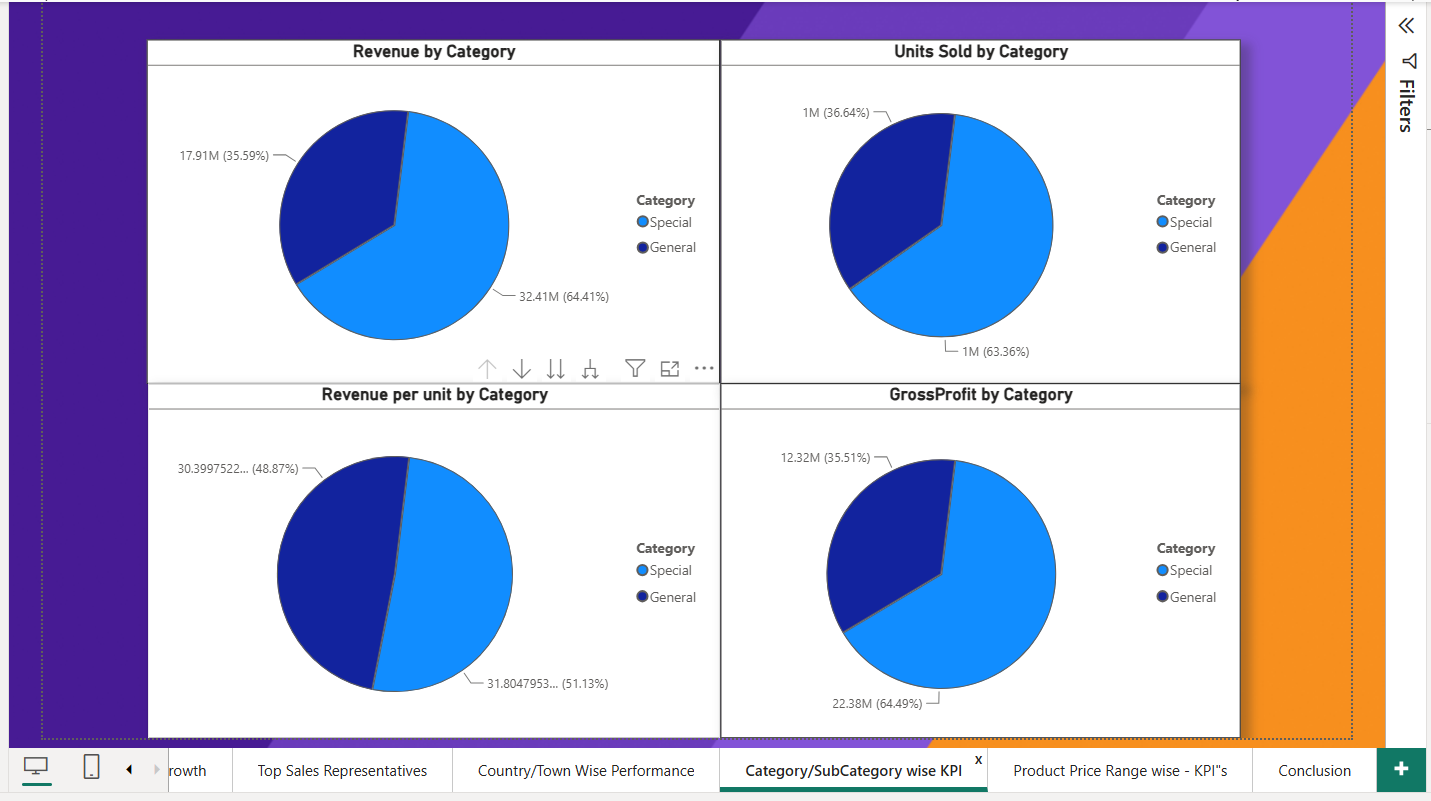

The dashboard page shown, as its layout file describes it:
{"tool":"powerbi","page":{"name":"Category/SubCategory wise KPI ","canvas":[1280,720],"ordinal":6},"visuals":[{"type":"pieChart","title":"Revenue by Category","fields":{"Category":["DimCategory.Category","DimSubCategory.SubCategory Name"],"Y":["FactSales.TotalRevenue"]},"box":[102,36.1,561.1,337.2],"z":0},{"type":"pieChart","fields":{"Category":["DimCategory.Category","DimSubCategory.SubCategory Name"],"Y":["FactSales.Revenue per unit"]},"box":[103.3,373.3,559.9,347.1],"z":1000},{"type":"pieChart","title":"Units Sold by Category","fields":{"Category":["DimCategory.Category","DimSubCategory.SubCategory Name"],"Y":["Sum(FactSales.Units)"]},"box":[663.1,36.1,508.9,337.2],"z":2000},{"type":"pieChart","fields":{"Category":["DimCategory.Category","DimSubCategory.SubCategory Name"],"Y":["FactSales.GrossProfit"]},"box":[663.1,373.3,508.9,347.1],"z":3000}]}

Visuals, with their boxes on the page's 1280x720 design canvas (x1, y1, x2, y2). These are canvas units, not pixel positions in the 1431x801 screenshot, which may show the page scaled, cropped or inside an application window:
"Revenue by Category" pieChart: 102,36,663,373
pieChart - DimCategory.Category x DimSubCategory.SubCategory Name: 103,373,663,720
"Units Sold by Category" pieChart: 663,36,1172,373
pieChart - DimCategory.Category x DimSubCategory.SubCategory Name: 663,373,1172,720
